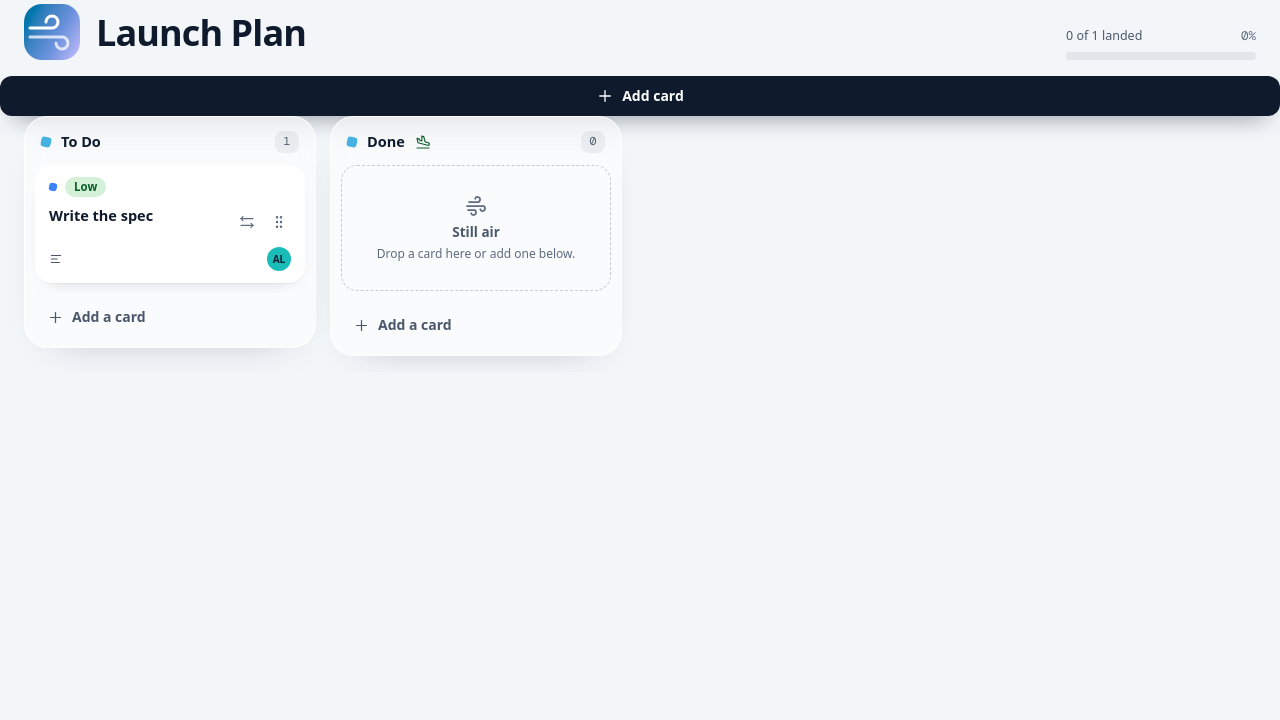
Test case: Board page adding and saving a task › through the modal, for a card that exists › opens for editing, and not for creating, when a card is pressed
The image size is (1280, 720).
Click the button "Write the spec" at (101, 216), box [47,204,155,228]
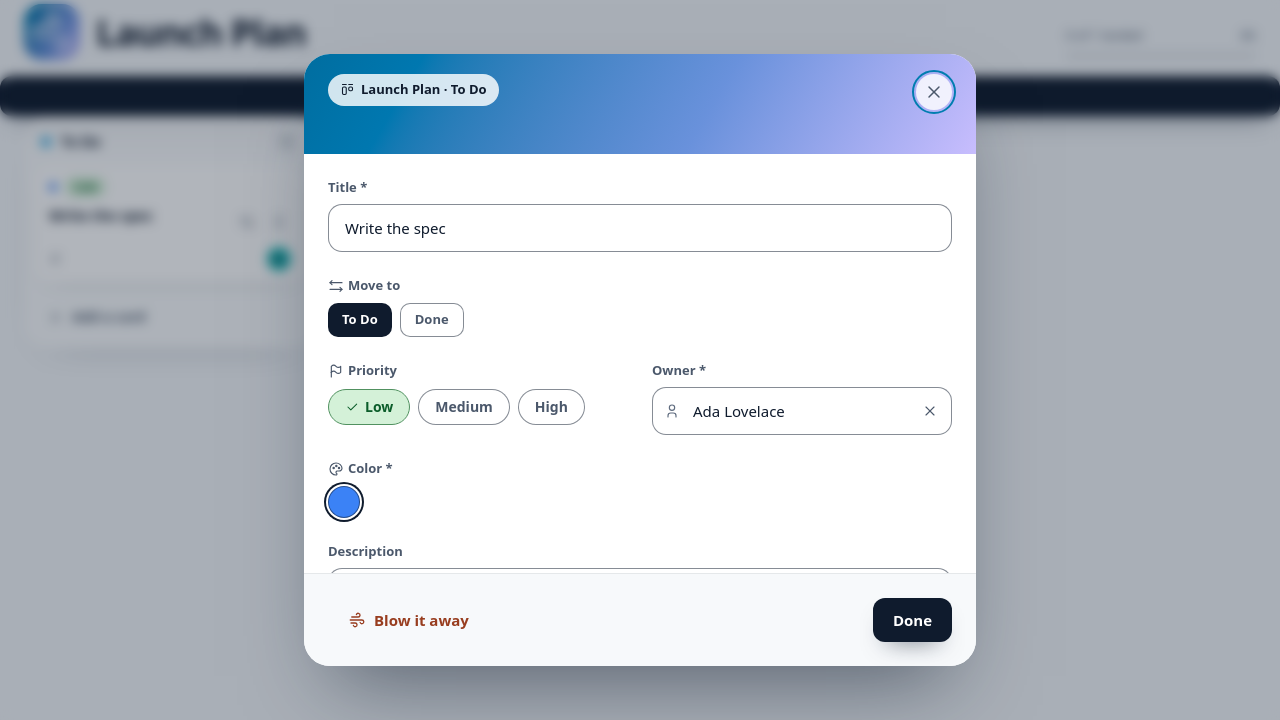
Expected: the dialog named "Edit task" is shown, [304,54,976,666]
